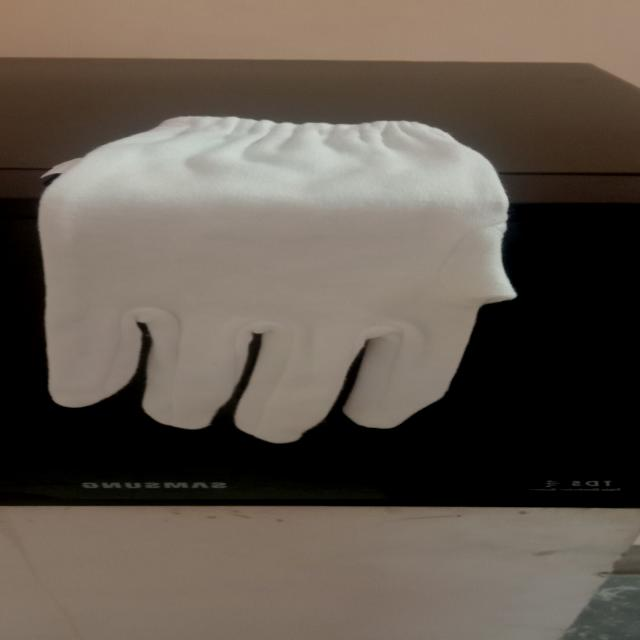glove: (36, 108, 532, 446)
